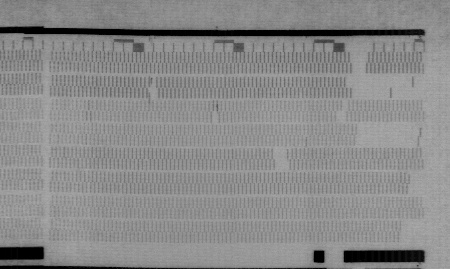Broken hole: (354, 121, 427, 149), (344, 76, 427, 99), (398, 219, 428, 243), (406, 169, 429, 196), (347, 50, 369, 73), (270, 148, 291, 171), (334, 100, 350, 121), (210, 110, 222, 124)
Oblique printing: (146, 76, 162, 102)
